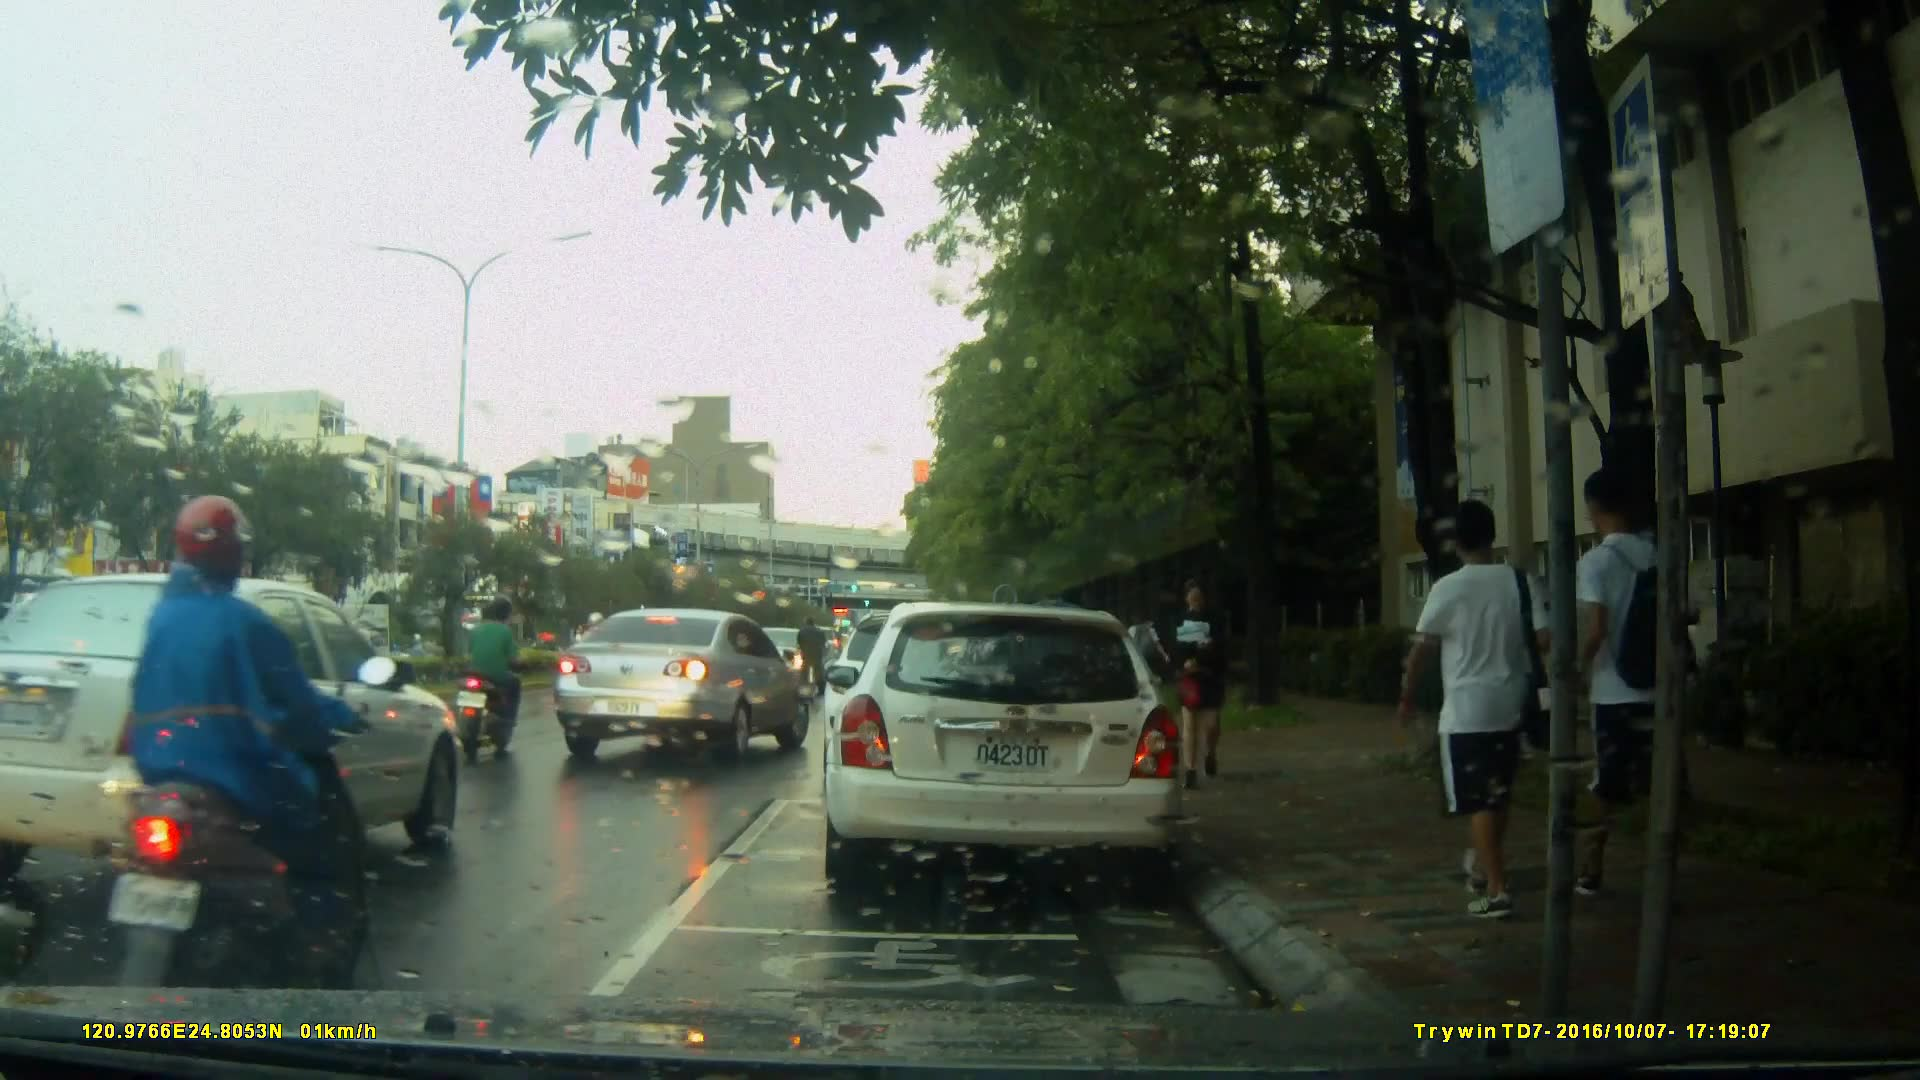pedestrian: (1410, 481, 1565, 921), (1563, 452, 1695, 921), (1169, 567, 1247, 796), (1122, 604, 1162, 732)
rider: (106, 495, 397, 997), (455, 587, 538, 756), (573, 607, 616, 724), (795, 612, 827, 710)
vehicle: (1, 569, 471, 907), (820, 602, 1188, 898), (552, 607, 813, 766)
